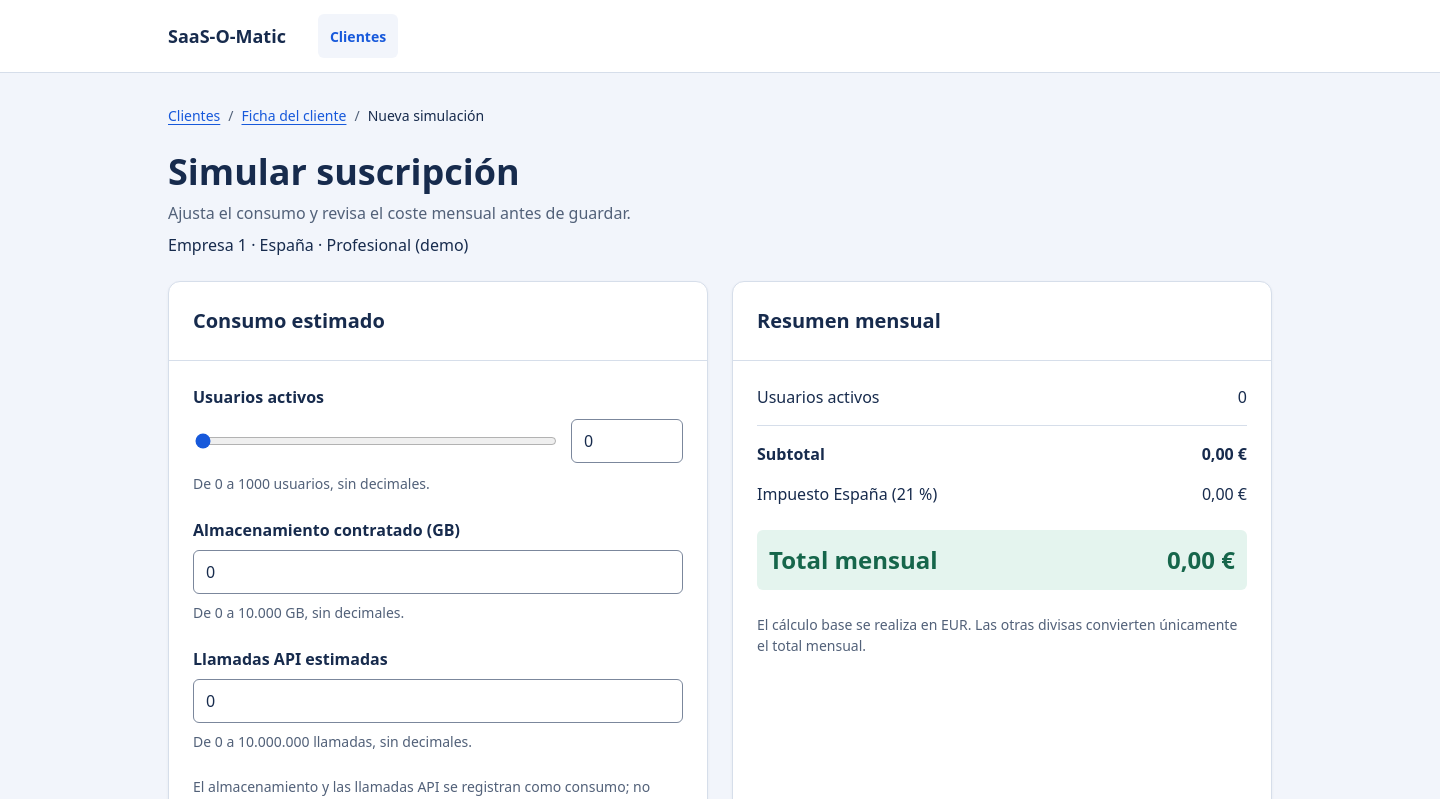
Test: WEB-SIM-02 uses the same tariff for the professional demo plan
The image size is (1440, 799).
Step 1. Replace the text in the field labelled "Usuarios activos" with "15" → point(627, 441), box [571,419,683,463]
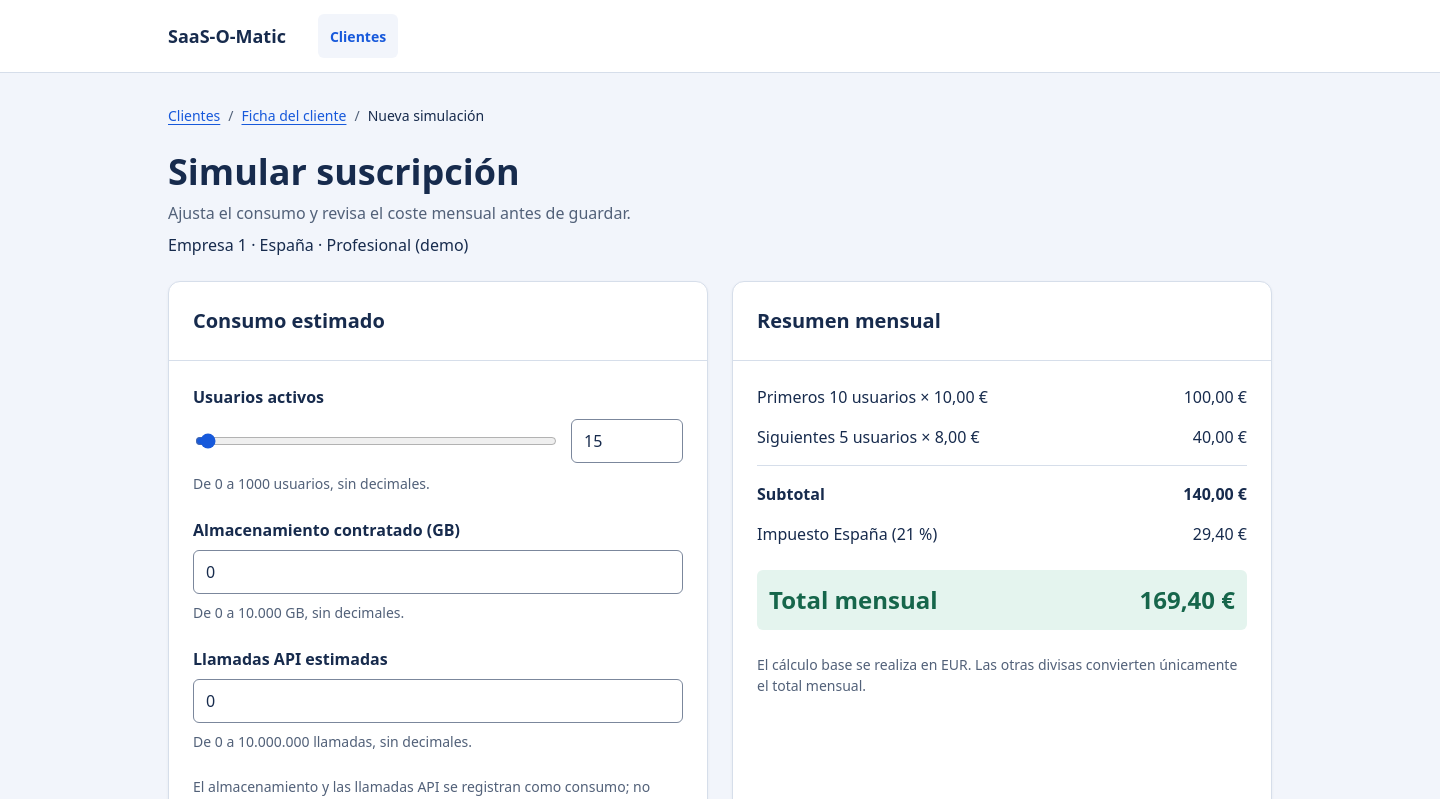
Check: the text named "Total mensual" shows "169,40", box [1140,583,1235,616]
